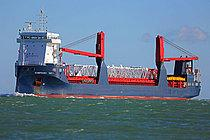Ship: (13, 6, 205, 103)
